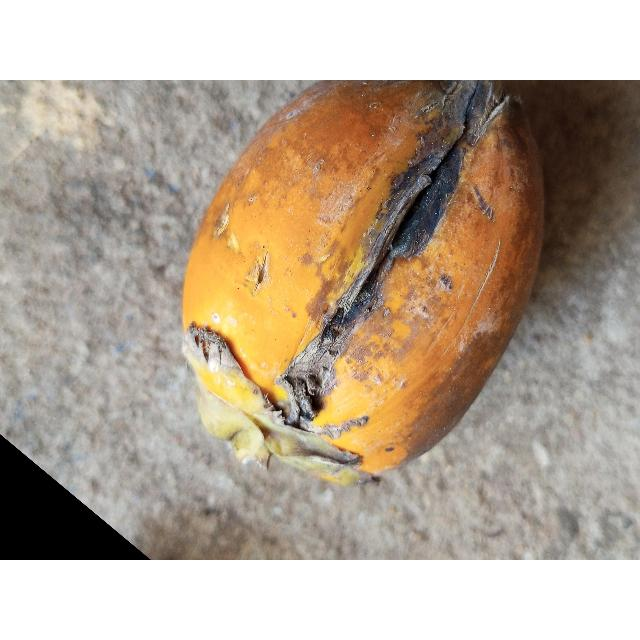damaged: (180, 80, 546, 488)
